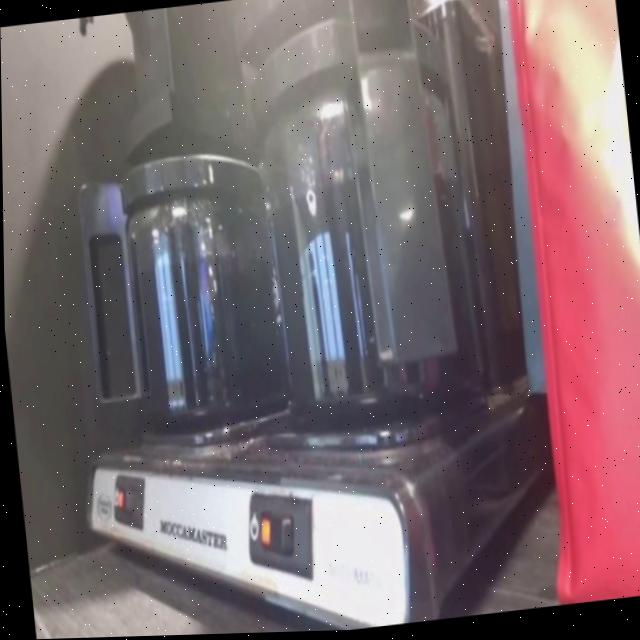coffee: (262, 125, 482, 423), (125, 204, 288, 433)
